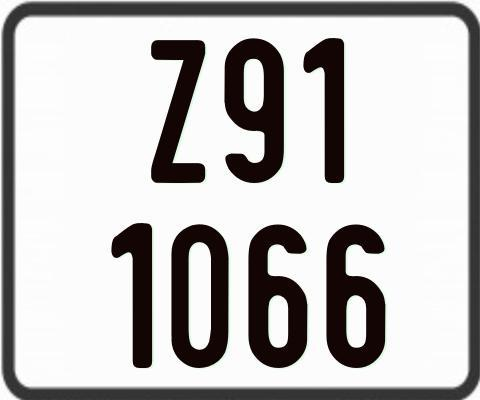0: (170, 223, 229, 370)
1: (110, 221, 156, 369), (302, 38, 345, 187)
6: (326, 223, 391, 369), (248, 225, 310, 373)
9: (223, 37, 285, 188)
Z: (151, 40, 209, 188)
